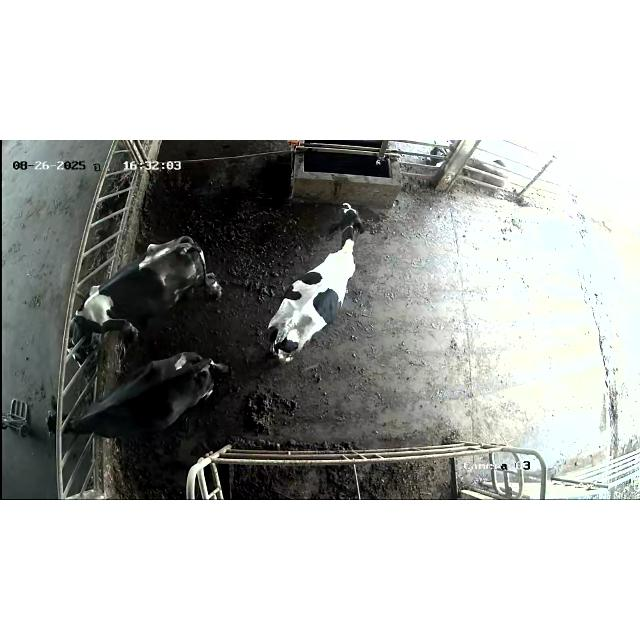eat: (44, 299, 136, 365), (32, 386, 108, 452)
stand: (262, 200, 376, 370)
